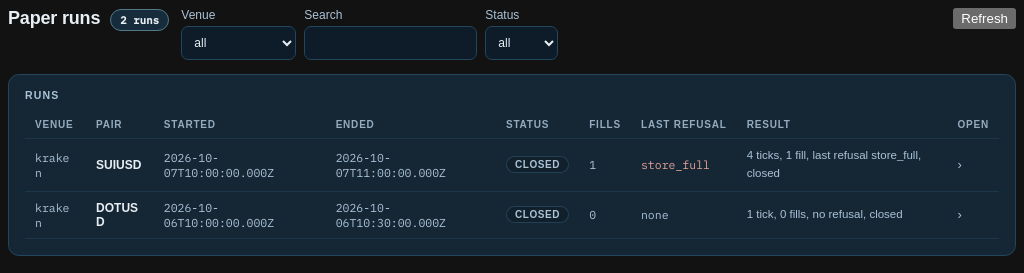
Test case: LastRunsPanel — read-only Last runs table › refresh re-reads the history and renders the fresh rows
Expected: the text "4 ticks, 1 fill, last refusal store_full, closed" is shown, [737,138,948,191]
Click the button with test id "paper-last-runs-refresh" at point(985, 18), box [953,8,1016,29]
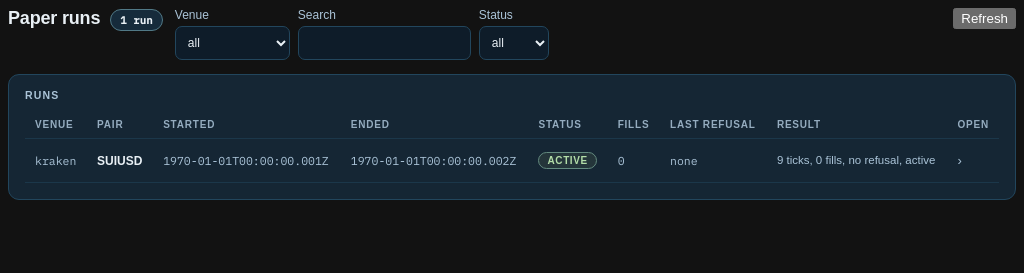
Expected: the text "9 ticks, 0 fills, no refusal, active" is shown, [767,138,948,182]
Expected: the text "4 ticks, 1 fill, last refusal store_full, closed" is gone
